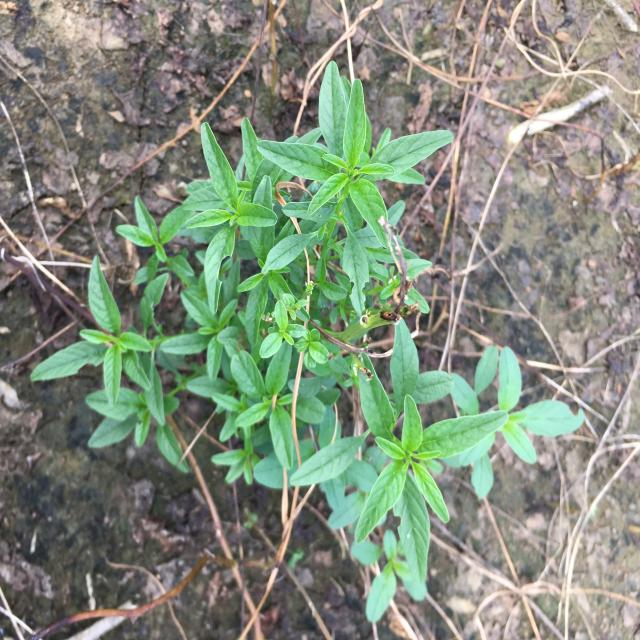Waterhemp: (29, 61, 586, 624)
